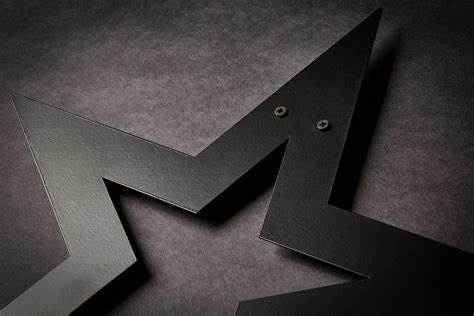screw: (315, 119, 331, 133), (273, 106, 287, 119)
